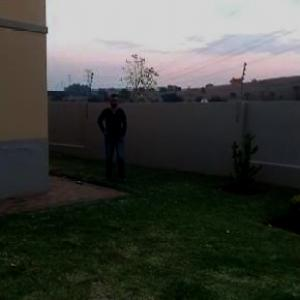follow: (96, 91, 128, 185)
